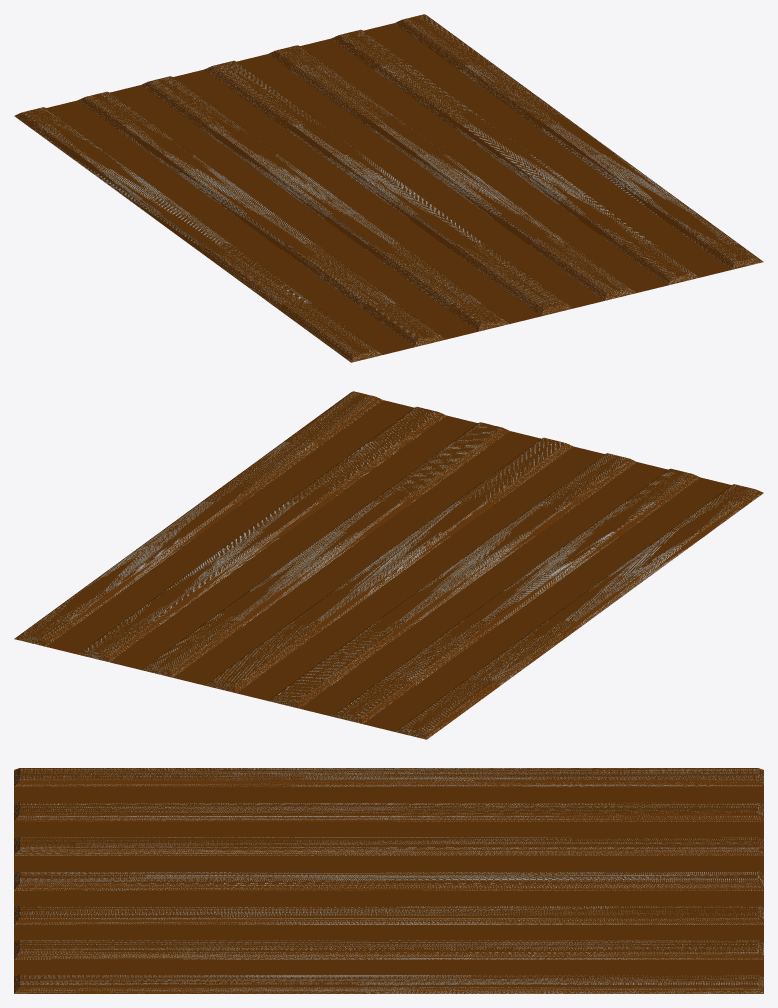
Rendered from Farm_Field_Dirt_01.fbx.
3 renders of one model, top to bottom at view 1: azimuth 30°, elevation 25°; view 2: azimuth 150°, elevation 25°; view 3: azimuth 270°, elevation 25°, orthographic. The views are drawn at different scales.
Parts seen in each view (by area): view 1: Model; view 2: Model; view 3: Model.
Boxes of the visible parts, x1,y1,x2,y2 form: Model: (14,14,763,362); Model: (14,391,763,739); Model: (14,768,763,993).
Bounding box in the file's own units: 1347 × 13 × 1906.
